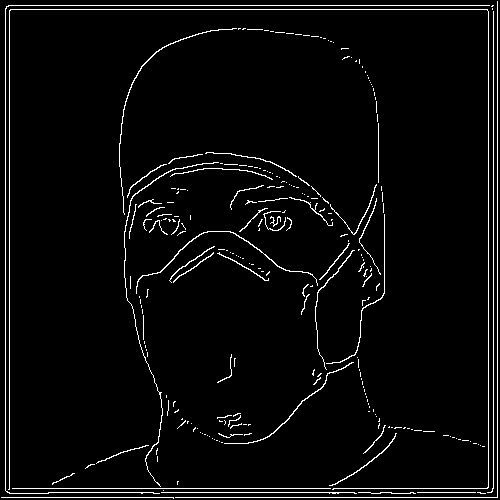mask: (130, 236, 325, 446)
